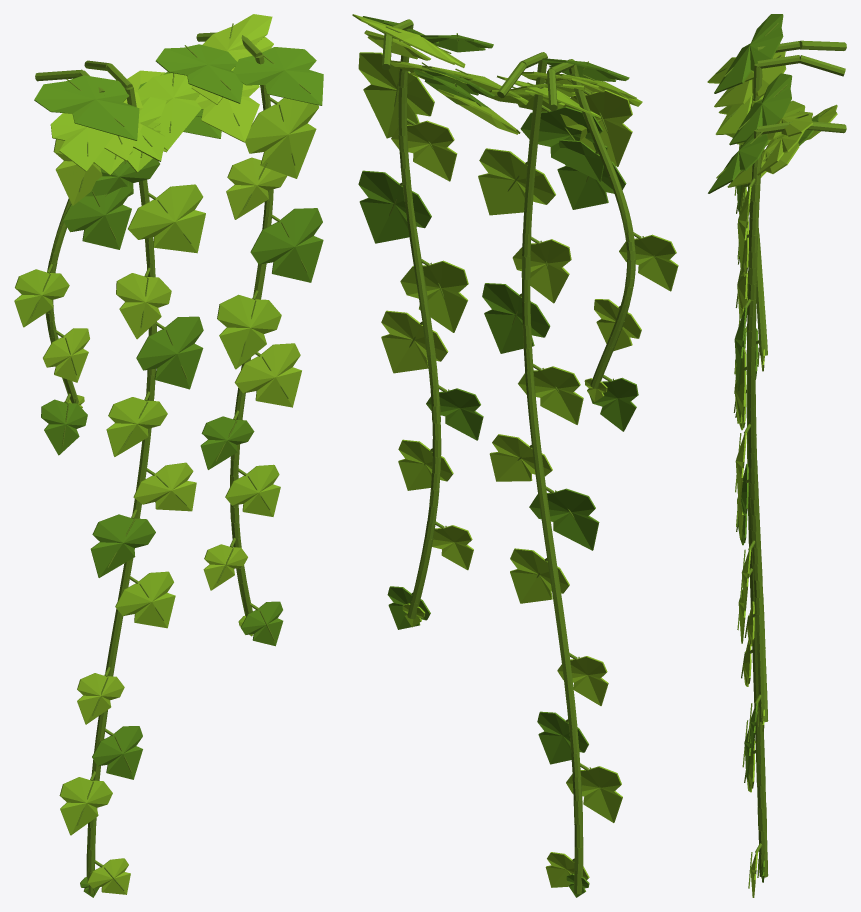
The model's file is cliff-vine.glb.
3 renders of one model, left to right at view 1: azimuth 30°, elevation 25°; view 2: azimuth 150°, elevation 25°; view 3: azimuth 270°, elevation 25°, orthographic. The views are drawn at different scales.
Visible parts, largest first — view 1: Leafy lip crown 12, Trailing ivy leaf 1.0, Trailing ivy leaf 0.1, Trailing ivy leaf 1.2, Leafy lip crown 3, Trailing ivy leaf 0.3, Trailing ivy leaf 1.3, Leafy lip crown 9, Trailing ivy leaf 1.4, Trailing ivy leaf 2.1, Trailing ivy leaf 0.6, Leafy lip crown 10 (+24 smaller); view 2: Trailing ivy leaf 1.0, Trailing ivy leaf 0.1, Trailing ivy leaf 1.2, Trailing ivy leaf 0.3, Trailing ivy leaf 1.3, Trailing ivy leaf 0.0, Trailing ivy leaf 1.4, Trailing ivy leaf 2.0, Trailing ivy leaf 0.6, Trailing ivy leaf 1.1, Trailing ivy leaf 0.2, Trailing ivy leaf 0.4 (+19 smaller); view 3: Leafy lip crown 12, Leafy lip crown 9, Leafy lip crown 3, Leafy lip crown 5, Leafy lip crown 11, Leafy lip crown 13, Leafy lip crown 14, Trailing ivy leaf 1.0, Leafy lip crown 2, Trailing ivy leaf 1.3, Trailing ivy leaf 1.2, Trailing ivy leaf 1.4 (+8 smaller).
Part boxes in pixels (x1,y1,x2,y2): Leafy lip crown 12: (34,75,139,140); Trailing ivy leaf 1.0: (245,98,318,178); Trailing ivy leaf 0.1: (128,184,205,253); Trailing ivy leaf 1.2: (250,208,323,282); Leafy lip crown 3: (232,47,323,105); Trailing ivy leaf 0.3: (136,316,203,389); Trailing ivy leaf 1.3: (217,294,281,369); Leafy lip crown 9: (155,44,243,103); Trailing ivy leaf 1.4: (234,343,301,407); Trailing ivy leaf 2.1: (62,182,131,249); Trailing ivy leaf 0.6: (90,514,155,577); Leafy lip crown 10: (136,73,201,150); Trailing ivy leaf 1.0: (358,52,434,138); Trailing ivy leaf 0.1: (478,148,555,215); Trailing ivy leaf 1.2: (358,170,431,243); Trailing ivy leaf 0.3: (482,283,550,353); Trailing ivy leaf 1.3: (400,260,468,332); Trailing ivy leaf 0.0: (520,106,607,181); Trailing ivy leaf 1.4: (381,310,448,373); Trailing ivy leaf 2.0: (560,89,632,166); Trailing ivy leaf 0.6: (529,488,599,550); Trailing ivy leaf 1.1: (391,120,457,181); Trailing ivy leaf 0.2: (512,239,571,303); Trailing ivy leaf 0.4: (518,366,583,424); Leafy lip crown 12: (714,14,783,93); Leafy lip crown 9: (729,73,792,145); Leafy lip crown 3: (708,129,768,193); Leafy lip crown 5: (714,51,786,107); Leafy lip crown 11: (727,138,799,187); Leafy lip crown 13: (715,94,764,134); Leafy lip crown 14: (767,111,812,139); Trailing ivy leaf 1.0: (738,187,751,274); Leafy lip crown 2: (757,131,804,175); Trailing ivy leaf 1.3: (734,348,746,423); Trailing ivy leaf 1.2: (734,307,746,391); Trailing ivy leaf 1.4: (735,432,746,507).
Size of the model in its own units: 0.6682 by 1.7 by 0.2522.
